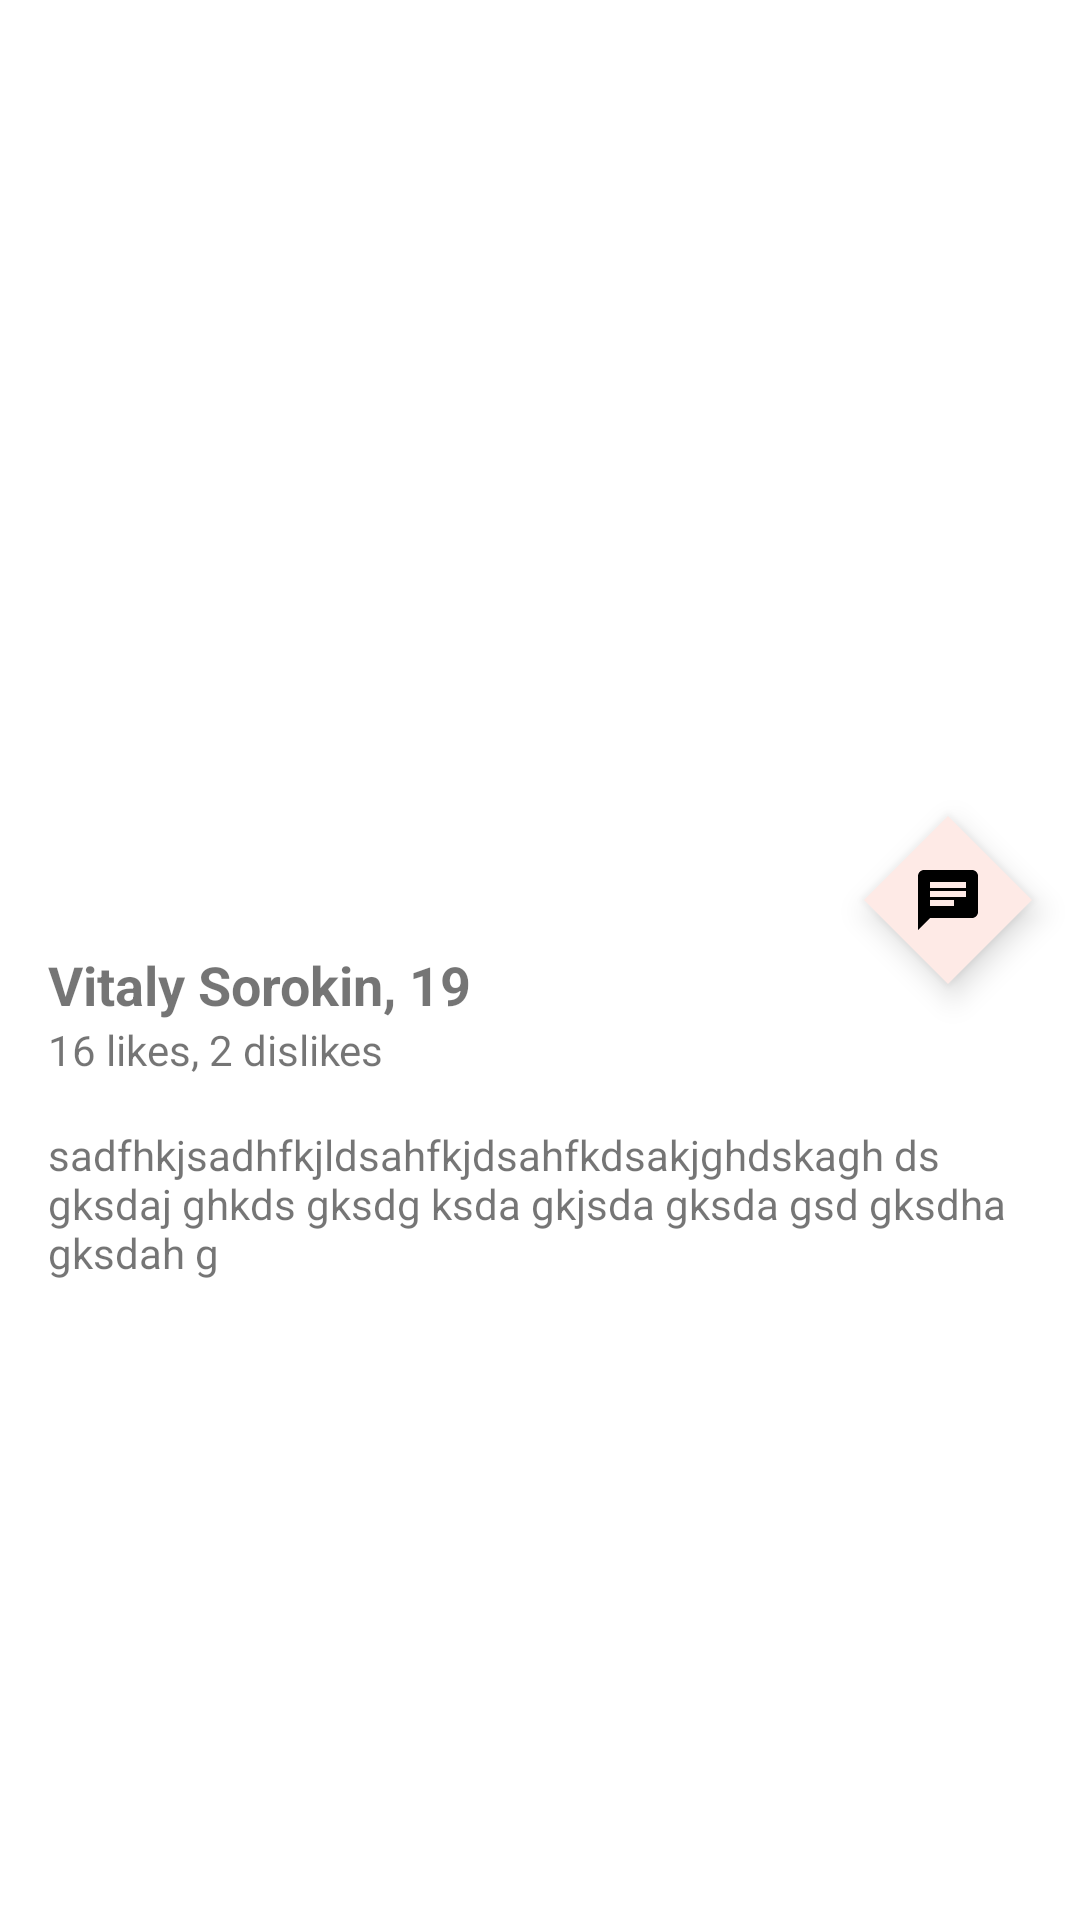

Point at icon controls on the screen. Image size 1080×1920, points as (x=x, y=y).
chat: (x=952, y=927)
